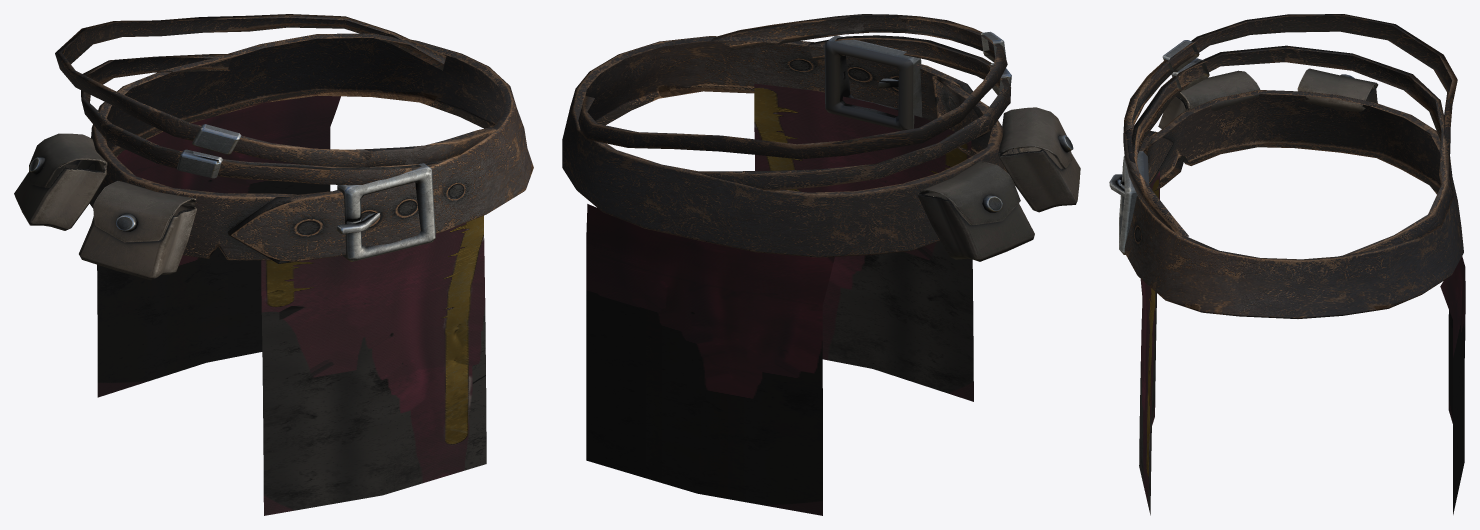
The model's file is sm_yun_varnaic_belt.gltf.
3 views of the same model, side by side, from view 1: azimuth 30°, elevation 25°; view 2: azimuth 150°, elevation 25°; view 3: azimuth 270°, elevation 25° (orthographic). The views are drawn at different scales.
Parts seen in each view (by area): view 1: sm_yun_varnaic_belt; view 2: sm_yun_varnaic_belt; view 3: sm_yun_varnaic_belt.
Part boxes in pixels (x1,y1,x2,y2): sm_yun_varnaic_belt: (14,14,533,515); sm_yun_varnaic_belt: (562,14,1080,515); sm_yun_varnaic_belt: (1109,14,1465,515).
Size of the model in its own units: 80.84 by 66.36 by 58.87.
